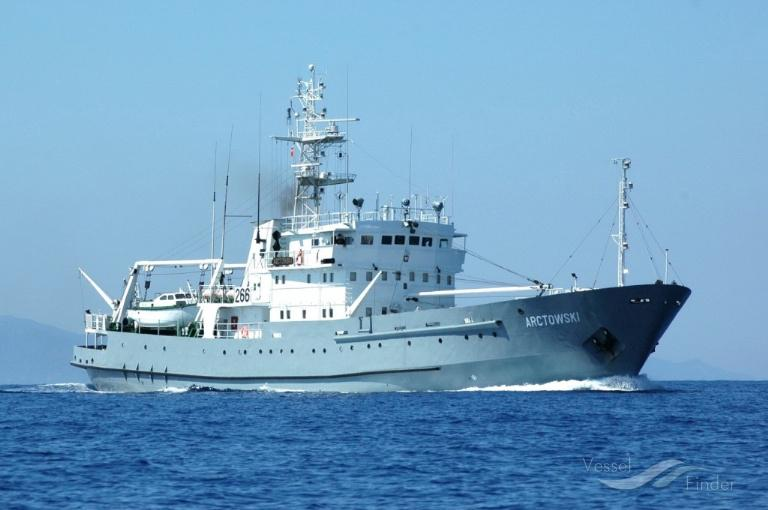OCR: (523, 308, 587, 334), (230, 281, 255, 311)
